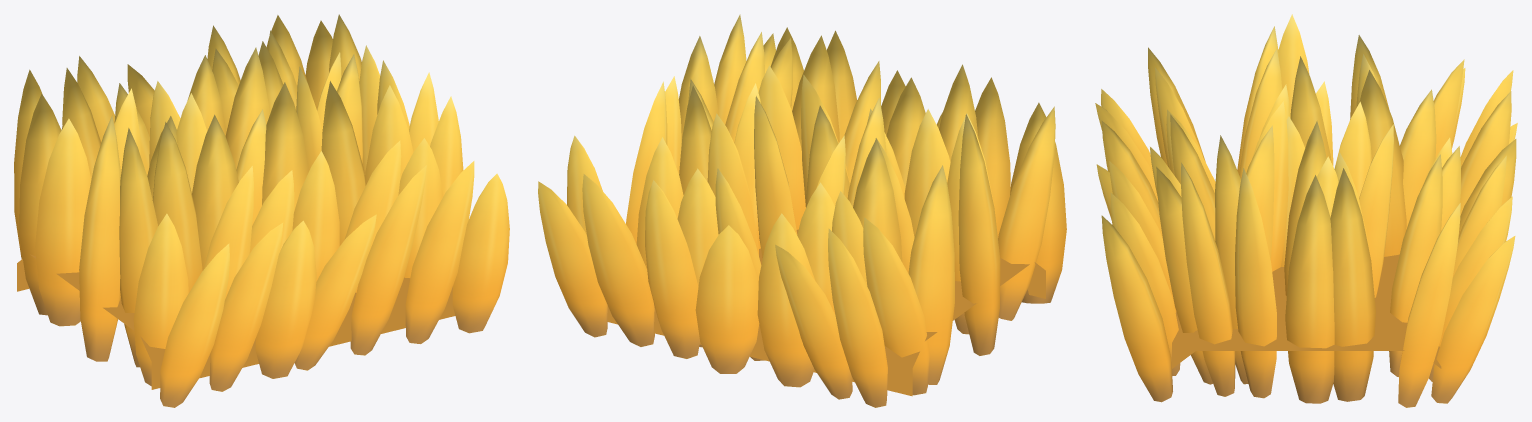
File: grass_straight.glb
The picture shows the model from 3 angles, left to right: view 1: azimuth 30°, elevation 25°; view 2: azimuth 150°, elevation 25°; view 3: azimuth 270°, elevation 25°; orthographic projection.
Visible parts, largest first — view 1: grass_straight; view 2: grass_straight; view 3: grass_straight.
Part boxes in pixels (x1,y1,x2,y2): grass_straight: [14, 14, 509, 407]; grass_straight: [538, 14, 1066, 407]; grass_straight: [1095, 14, 1517, 407].
Size of the model in its own units: 1.07 by 0.6696 by 1.07.
Materials: 1 (1 with a texture image).
